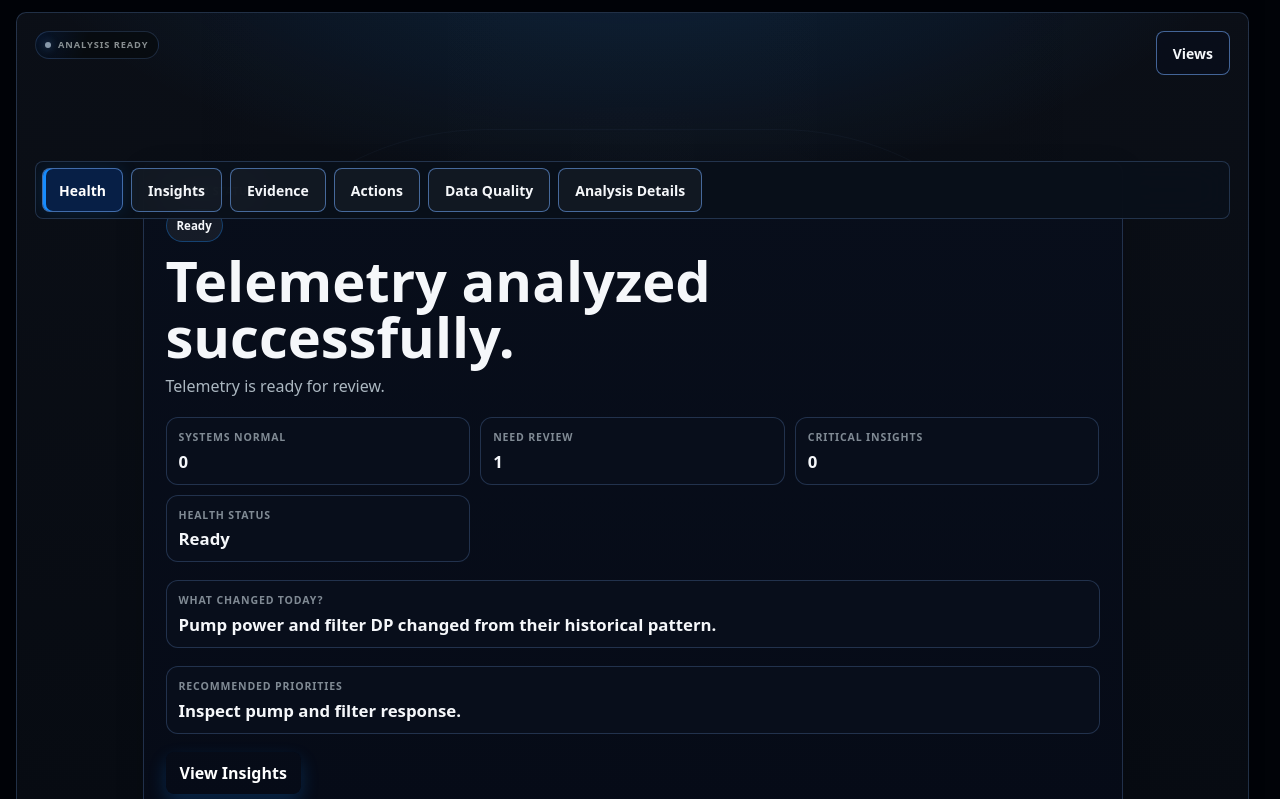
Test: SystemBodyWorkspace empty state › renders relationship evidence and timeline details after analysis
The width and height of the screenshot is (1280, 799).
Click the tab "Evidence" at (278, 190), box [230,168,326,212]
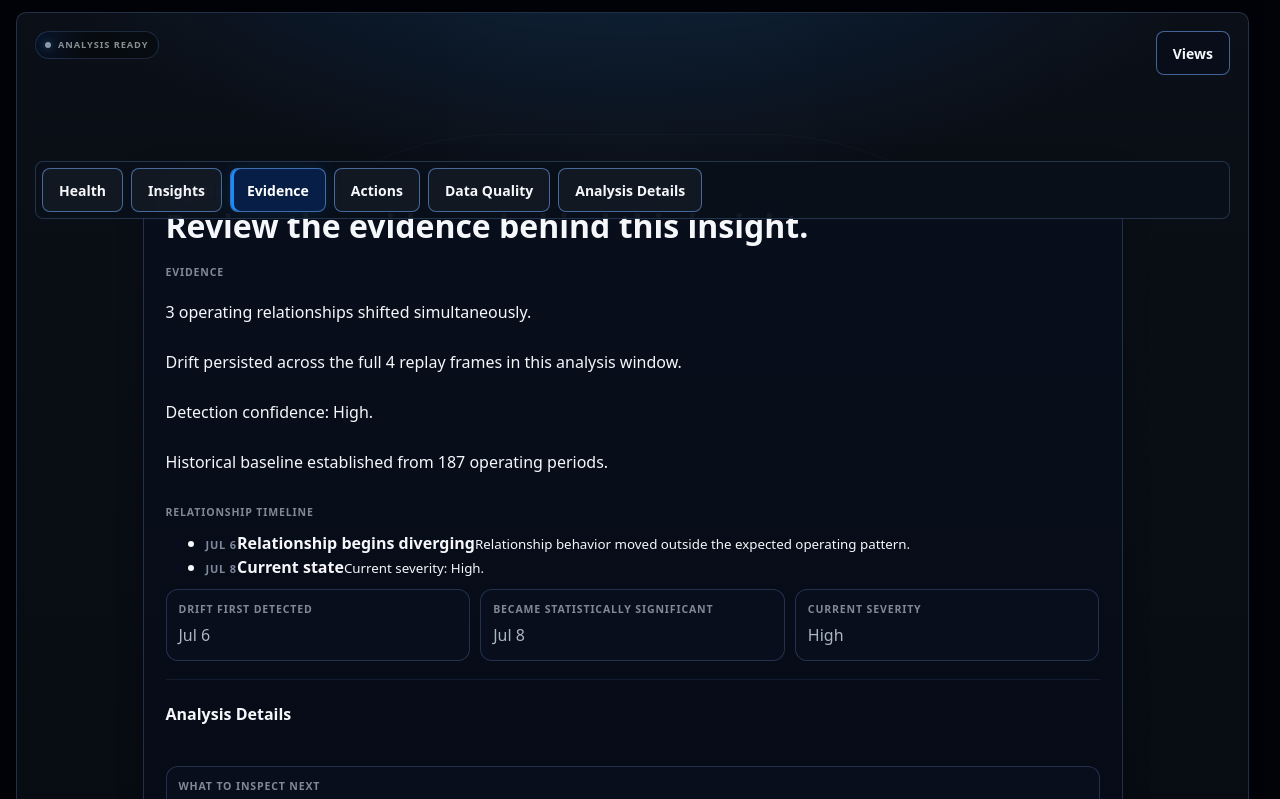
Expected: the list item "3 operating relationships shifted simultaneously." is shown, [166,301,531,323]
Expected: the heading "Relationship Timeline" is shown, [166,505,314,519]
Expected: the text "Relationship begins diverging" is shown, [237,532,475,554]
